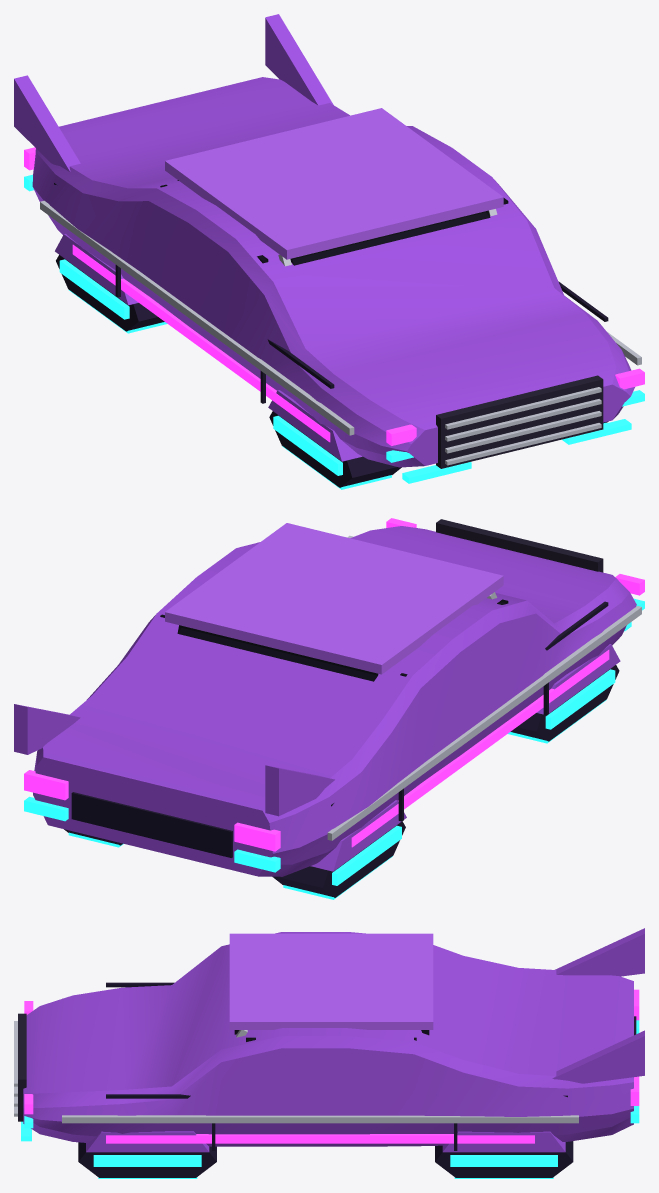
The model's file is eclipse-cruiser.glb.
The picture shows the model from 3 angles, top to bottom: view 1: azimuth 30°, elevation 25°; view 2: azimuth 150°, elevation 25°; view 3: azimuth 270°, elevation 25°; orthographic projection. The views are drawn at different scales.
Visible parts, largest first — view 1: hull, roof_cap, grille_mesh, spear_l, rocker_glow_l, fin_l, fin_r, hover_fl_shell, glass_wind, hover_rl_shell, hover_fl_fairing, hover_rl_edge (+7 smaller); view 2: hull, roof_cap, tail_panel, spear_l, rocker_glow_l, grille_mesh, fin_l, fin_r, hover_rl_shell, glass_rear, hover_rl_fairing, hover_fl_shell (+7 smaller); view 3: hull, roof_cap, spear_r, rocker_glow_r, fin_r, fin_l, hover_rr_shell, hover_fr_shell, hover_rr_fairing, hover_fr_fairing, hover_fr_edge, hover_rr_edge (+2 smaller).
Part boxes in pixels (x1,y1,x2,y2): hull: (32,77,634,467); roof_cap: (165,108,503,259); grille_mesh: (436,375,603,468); spear_l: (40,200,354,435); rocker_glow_l: (72,244,330,442); fin_l: (14,75,80,172); fin_r: (265,14,333,105); hover_fl_shell: (269,411,401,487); glass_wind: (290,210,490,265); hover_rl_shell: (56,255,164,331); hover_fl_fairing: (268,390,362,461); hover_rl_edge: (59,259,129,319); hull: (33,526,636,876); roof_cap: (165,523,503,674); tail_panel: (71,792,232,857); spear_l: (327,606,641,840); rocker_glow_l: (351,650,609,847); grille_mesh: (436,519,603,572); fin_l: (265,765,334,816); fin_r: (14,704,80,754); hover_rl_shell: (272,821,405,897); glass_rear: (177,625,378,681); hover_rl_fairing: (310,800,406,871); hover_fl_shell: (510,665,619,741); hull: (23,932,633,1146); roof_cap: (229,933,433,1029); spear_r: (62,1115,578,1123); rocker_glow_r: (106,1134,534,1143); fin_r: (552,1030,644,1083); fin_l: (555,928,644,976); hover_rr_shell: (435,1141,573,1177); hover_fr_shell: (78,1142,216,1177); hover_rr_fairing: (442,1131,565,1152); hover_fr_fairing: (86,1131,209,1152); hover_fr_edge: (93,1155,201,1166); hover_rr_edge: (450,1155,557,1166).
Size of the model in its own units: 2.56 by 1.47 by 5.74.
